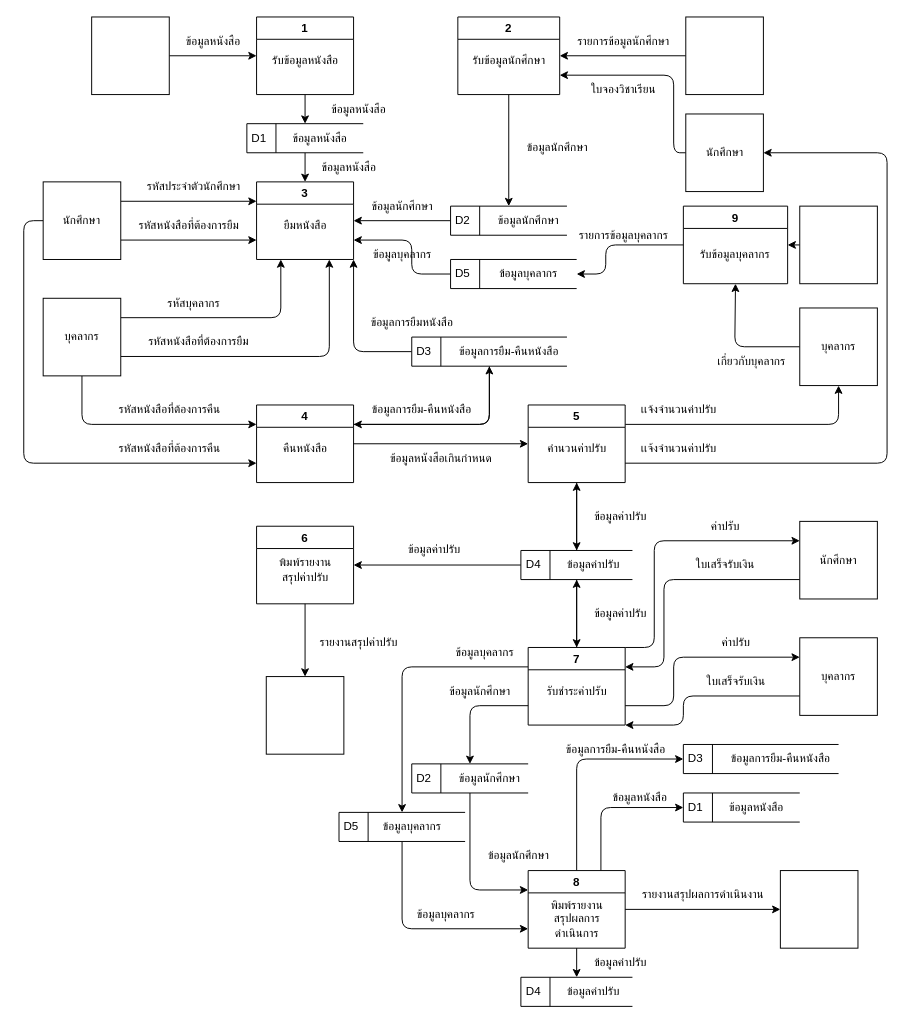
This 912x1023 diagram has some shape labels left out. Here are the shapes that lost their labels. From the top down, the centre of each, then its label:
[130,55]: ฝ่ายจัดหาหนังสือ
[724,55]: งานทะเบียน
[838,244]: งานบุคลากร
[304,715]: ฝ่ายการเงิน
[818,909]: ผู้บริหาร
